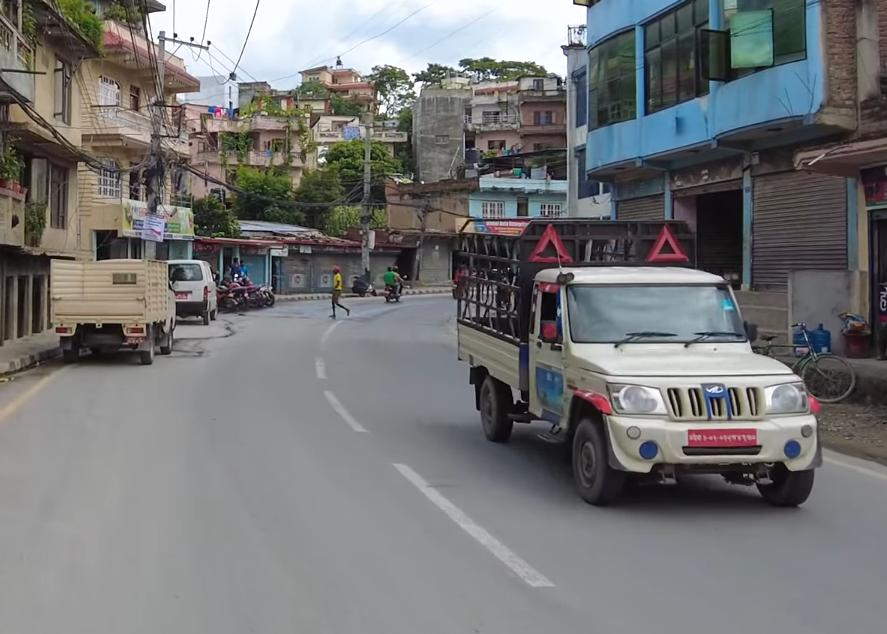bike: (373, 262, 407, 309)
mini_truck: (43, 249, 179, 373)
transport_vehicle: (460, 214, 837, 528)
van: (158, 249, 224, 331)
